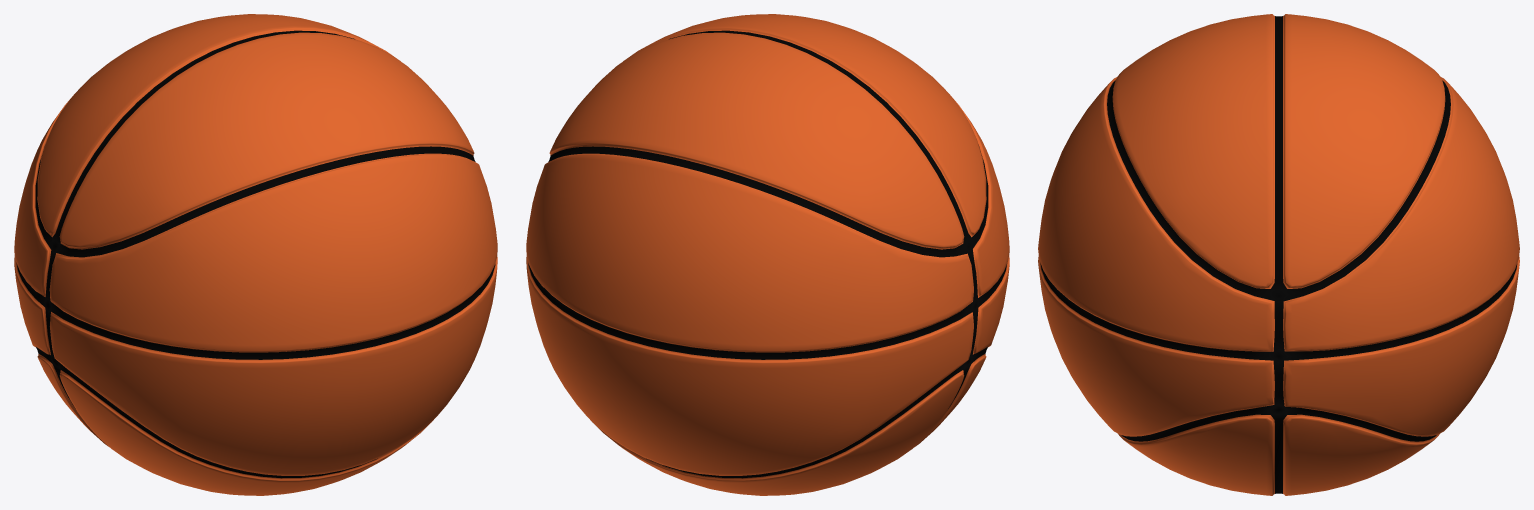
The model's file is basketball_origin0.glb.
3 views of the same model, side by side, from view 1: azimuth 30°, elevation 25°; view 2: azimuth 150°, elevation 25°; view 3: azimuth 270°, elevation 25° (orthographic).
Parts seen in each view (by area): view 1: Cube; view 2: Cube; view 3: Cube.
Boxes of the visible parts, x1=… form: Cube: x1=14, y1=14, x2=497, y2=495; Cube: x1=526, y1=14, x2=1009, y2=495; Cube: x1=1038, y1=14, x2=1519, y2=495.
Bounding box in the file's own units: 1.63 × 1.63 × 1.63.
